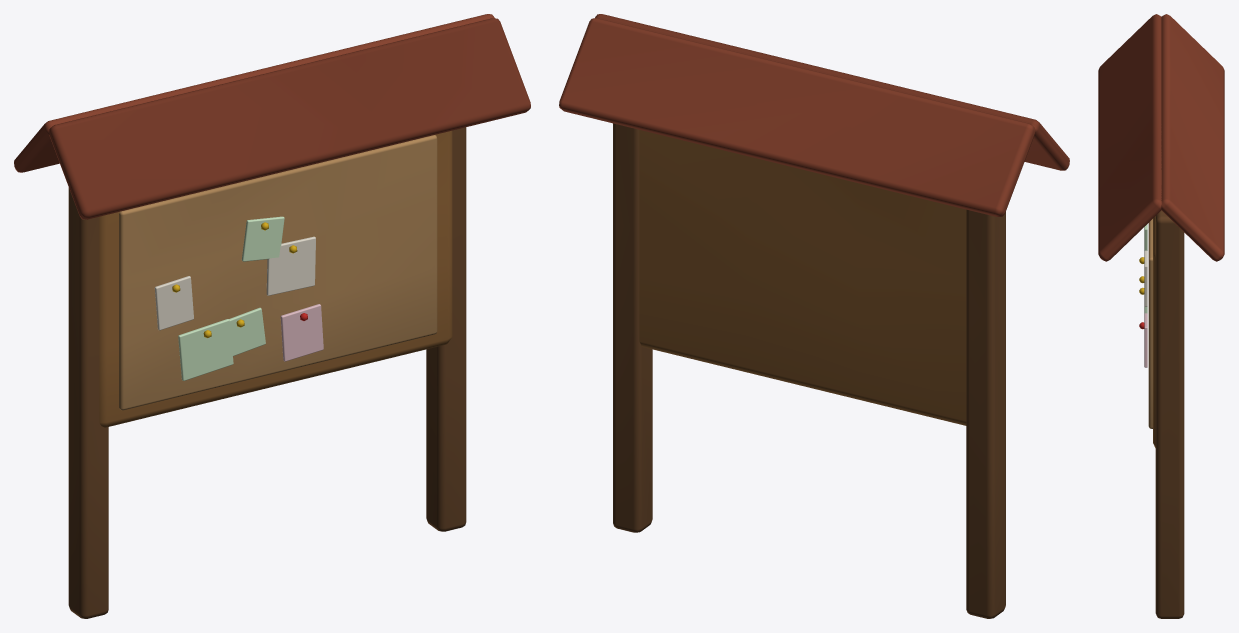
The model's file is board.glb.
The picture shows the model from 3 angles, left to right: view 1: azimuth 30°, elevation 25°; view 2: azimuth 150°, elevation 25°; view 3: azimuth 270°, elevation 25°; orthographic projection. The views are drawn at different scales.
Visible parts, largest first — view 1: board_main; view 2: board_main; view 3: board_main.
Boxes of the visible parts, left/top/right/bottom form: board_main: left=14, top=14, right=530, bottom=618; board_main: left=559, top=14, right=1069, bottom=618; board_main: left=1098, top=14, right=1224, bottom=618.
Bounding box in the file's own units: 1.56 × 1.67 × 0.4399.
